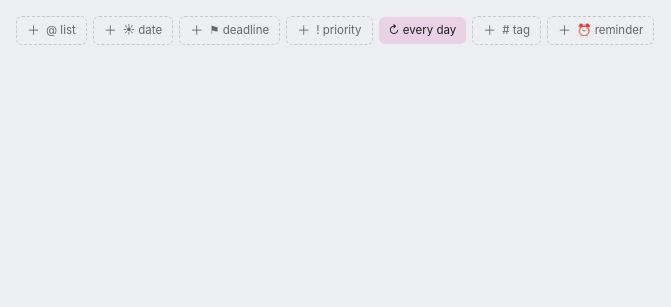
Test: a series with a last day › offers no way to take one off when there is none
What coordinates should you click on to do the following:
click the button "↻ every day"
I would click on:
 (422, 30)
Its box is top-left (379, 17), bottom-right (466, 44).
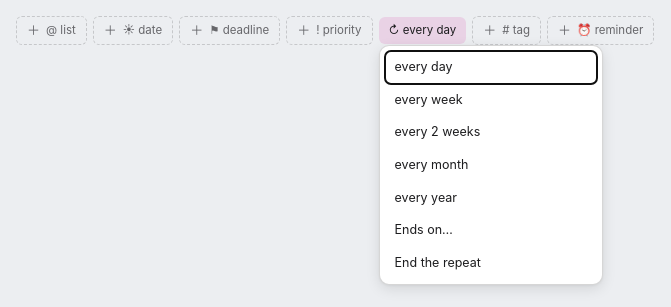
Now the button "Ends on…" is shown, box top-left (385, 214), bottom-right (597, 247)
